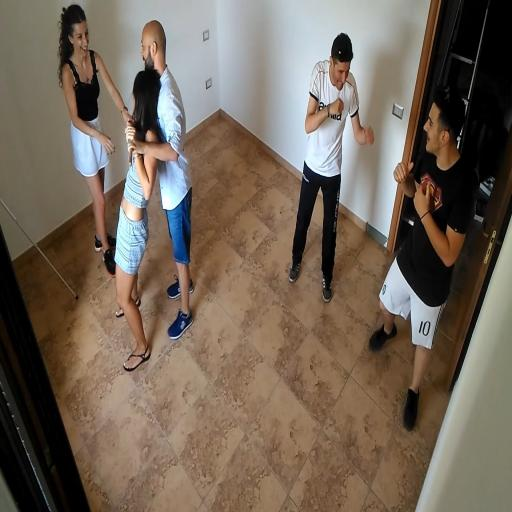imobilizar: (111, 14, 202, 384)
